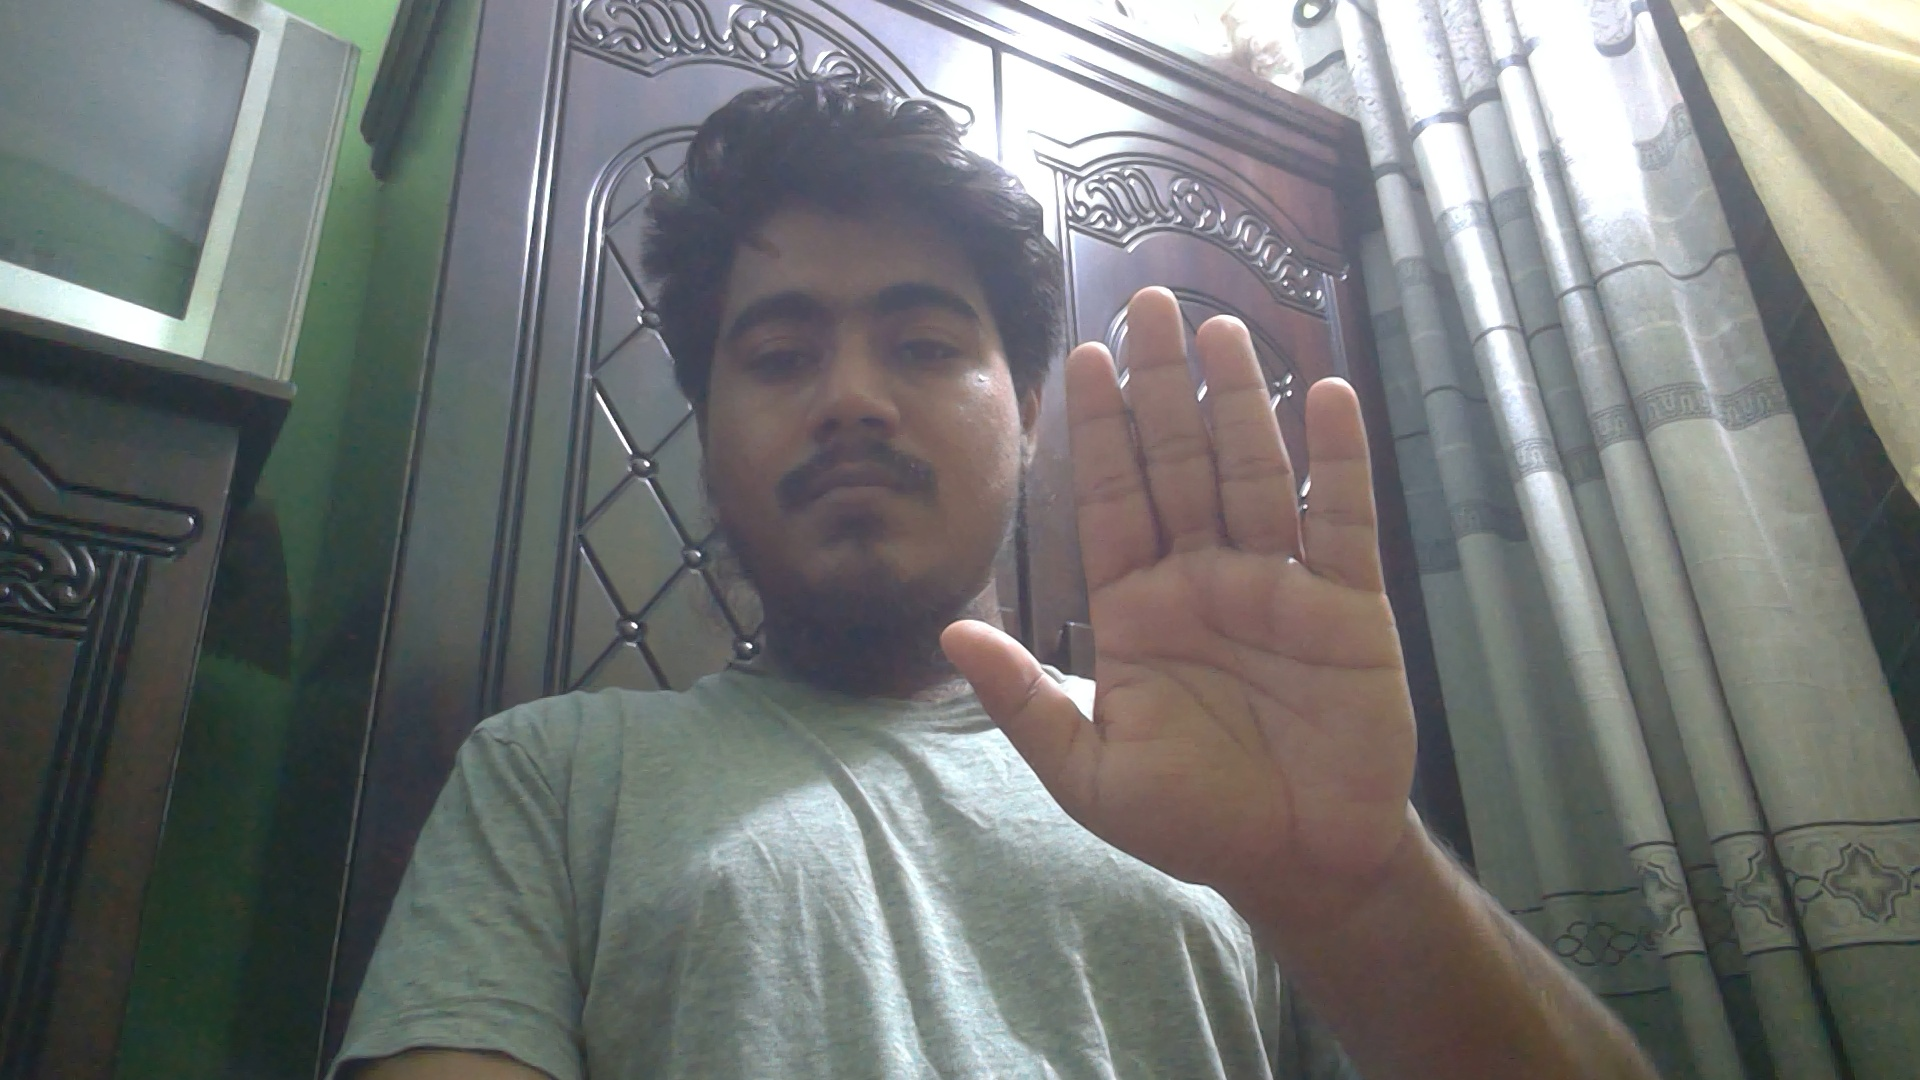Hello: (920, 281, 1425, 902)
